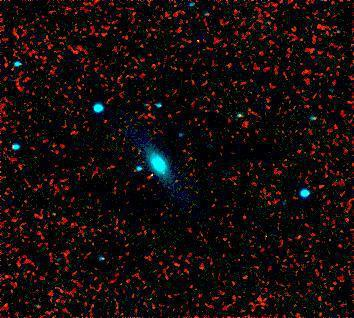star: (151, 161, 181, 191)
